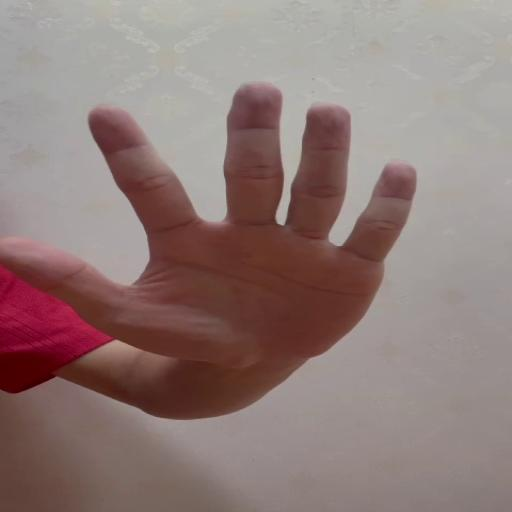open_palm: (4, 80, 418, 364)
